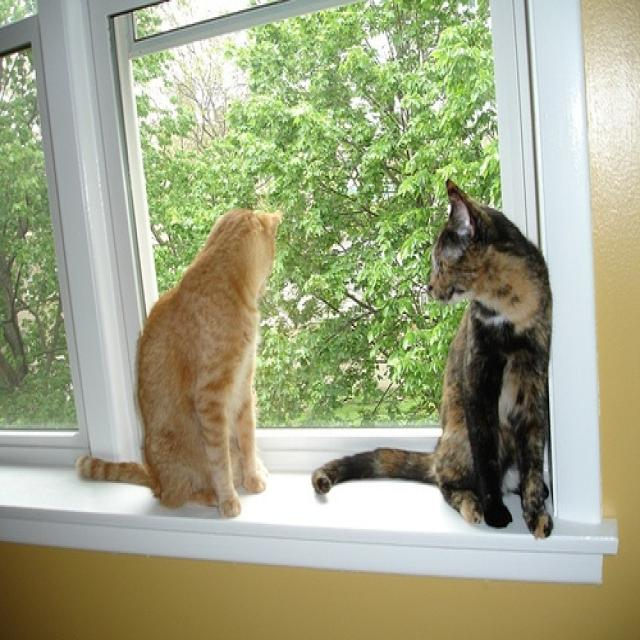cat: (311, 179, 559, 541), (77, 209, 282, 520)
